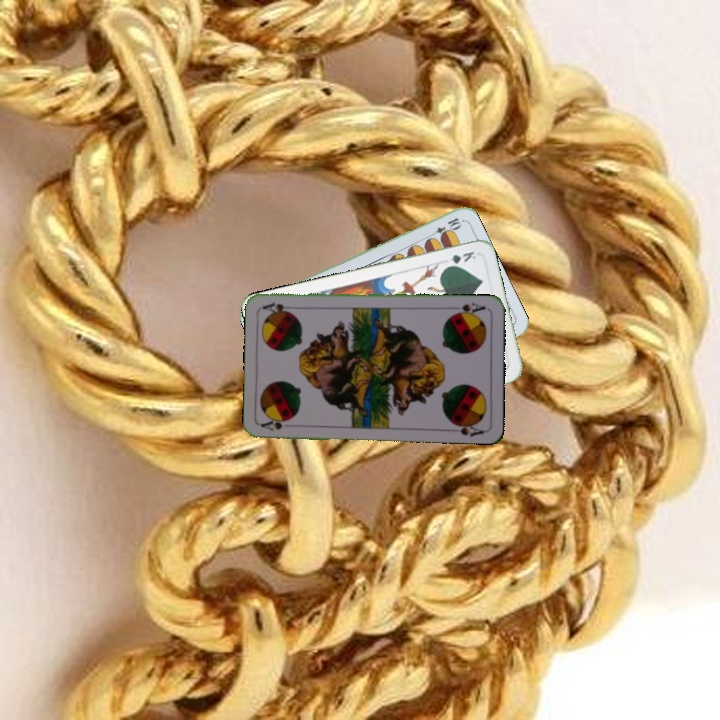E10: (425, 213, 464, 241)
GK: (441, 247, 478, 270)
SA: (448, 299, 488, 318), (258, 415, 294, 434)
